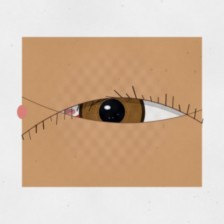hemorrhage_spot: (58, 90, 146, 160)
